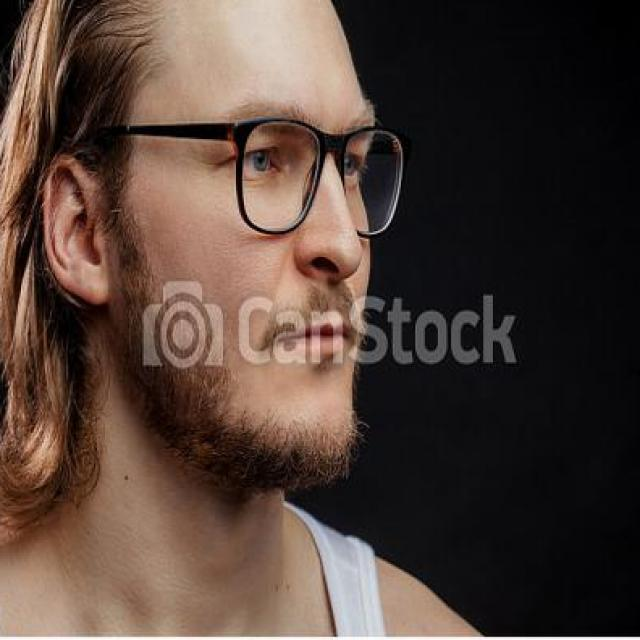Glasses: (125, 108, 408, 240)
